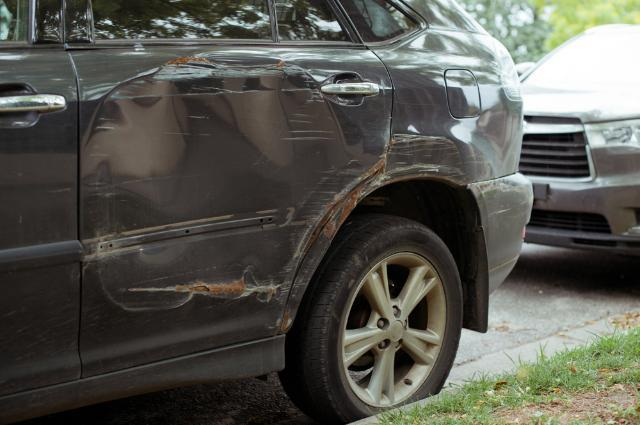dent: (81, 52, 375, 311)
scratch: (388, 133, 471, 183)
